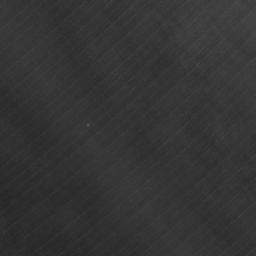Target: (85, 123, 90, 129)
